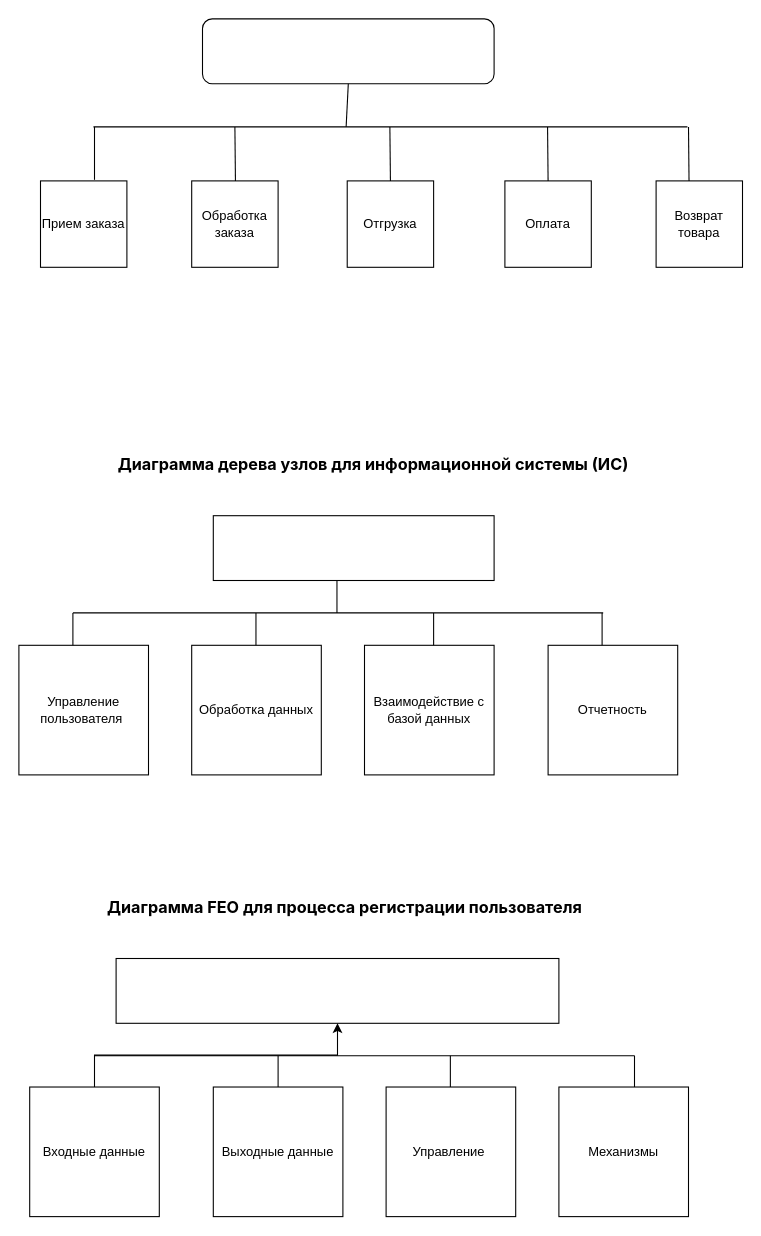
This 761x1236 diagram has some shape labels left out. Here are the shapes that lost their labels. From the top down, the box of each, then its label:
(201, 18, 494, 84): Управление заказами
(212, 515, 494, 580): Информационная система
(115, 957, 559, 1023): Регистрация пользователя
